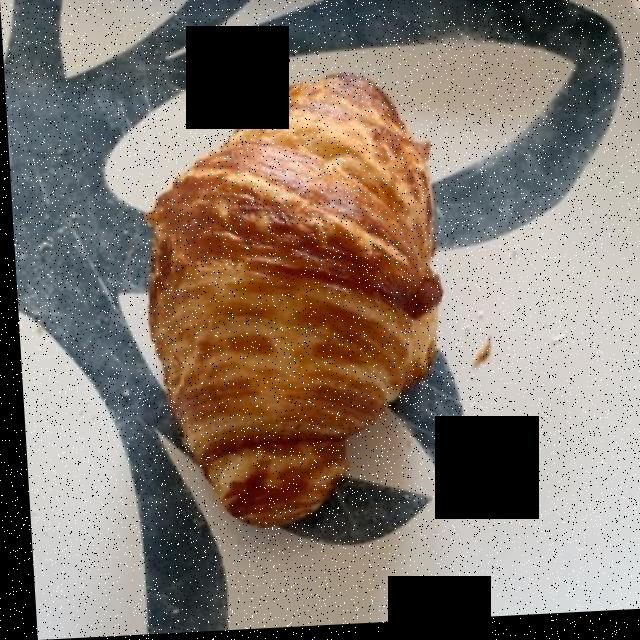croissant: (150, 80, 433, 524)
